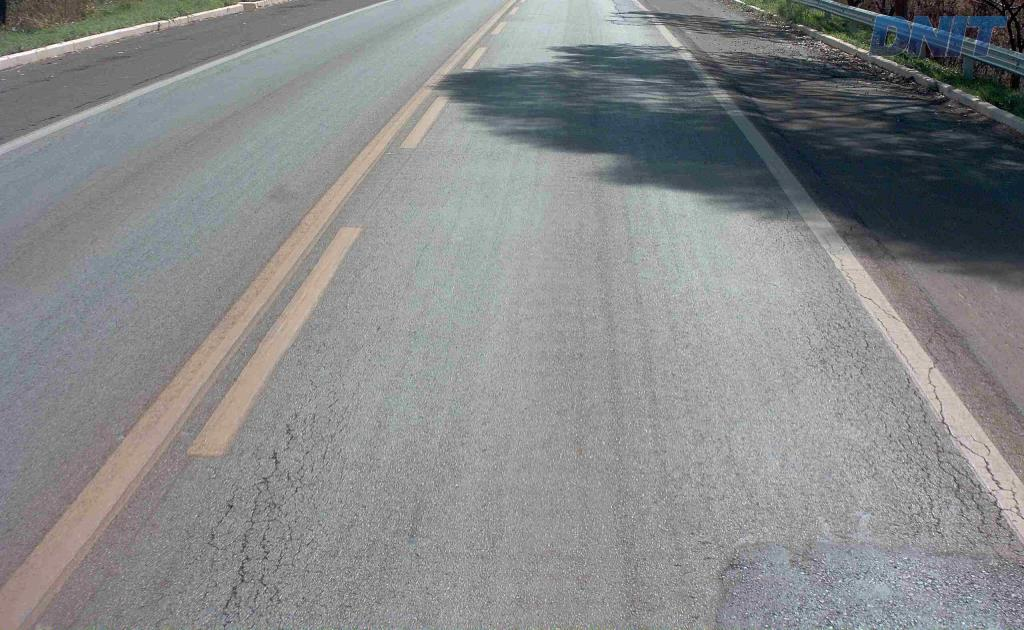crack: (220, 486, 268, 629)
